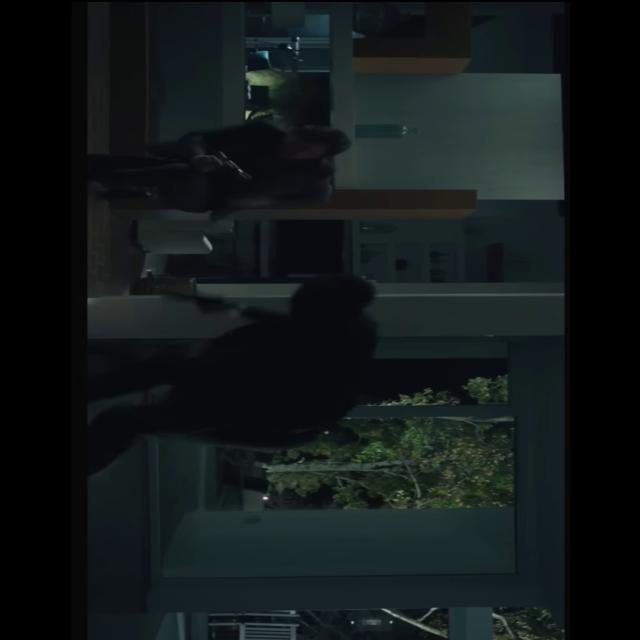weapons: (157, 143, 267, 194)
